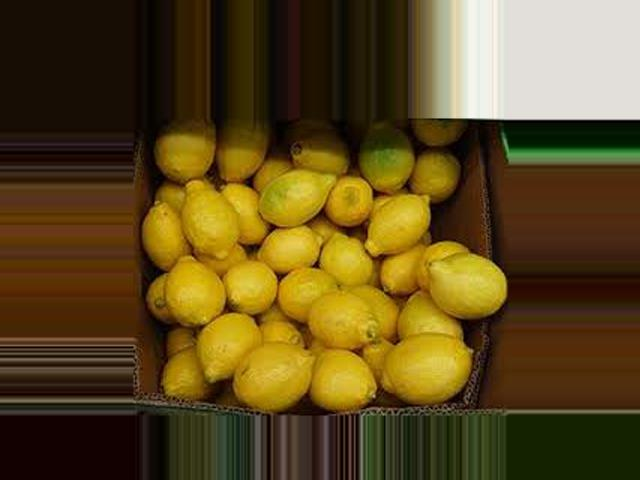lemon: (320, 230, 368, 284)
